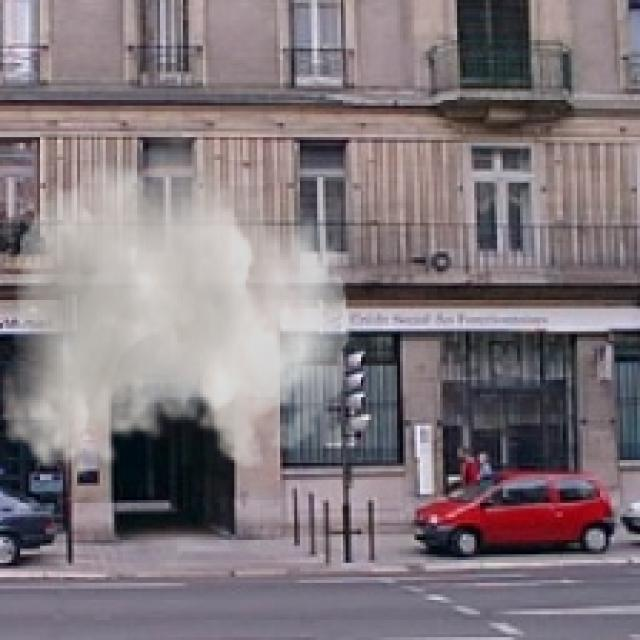smoke: (0, 114, 352, 480)
